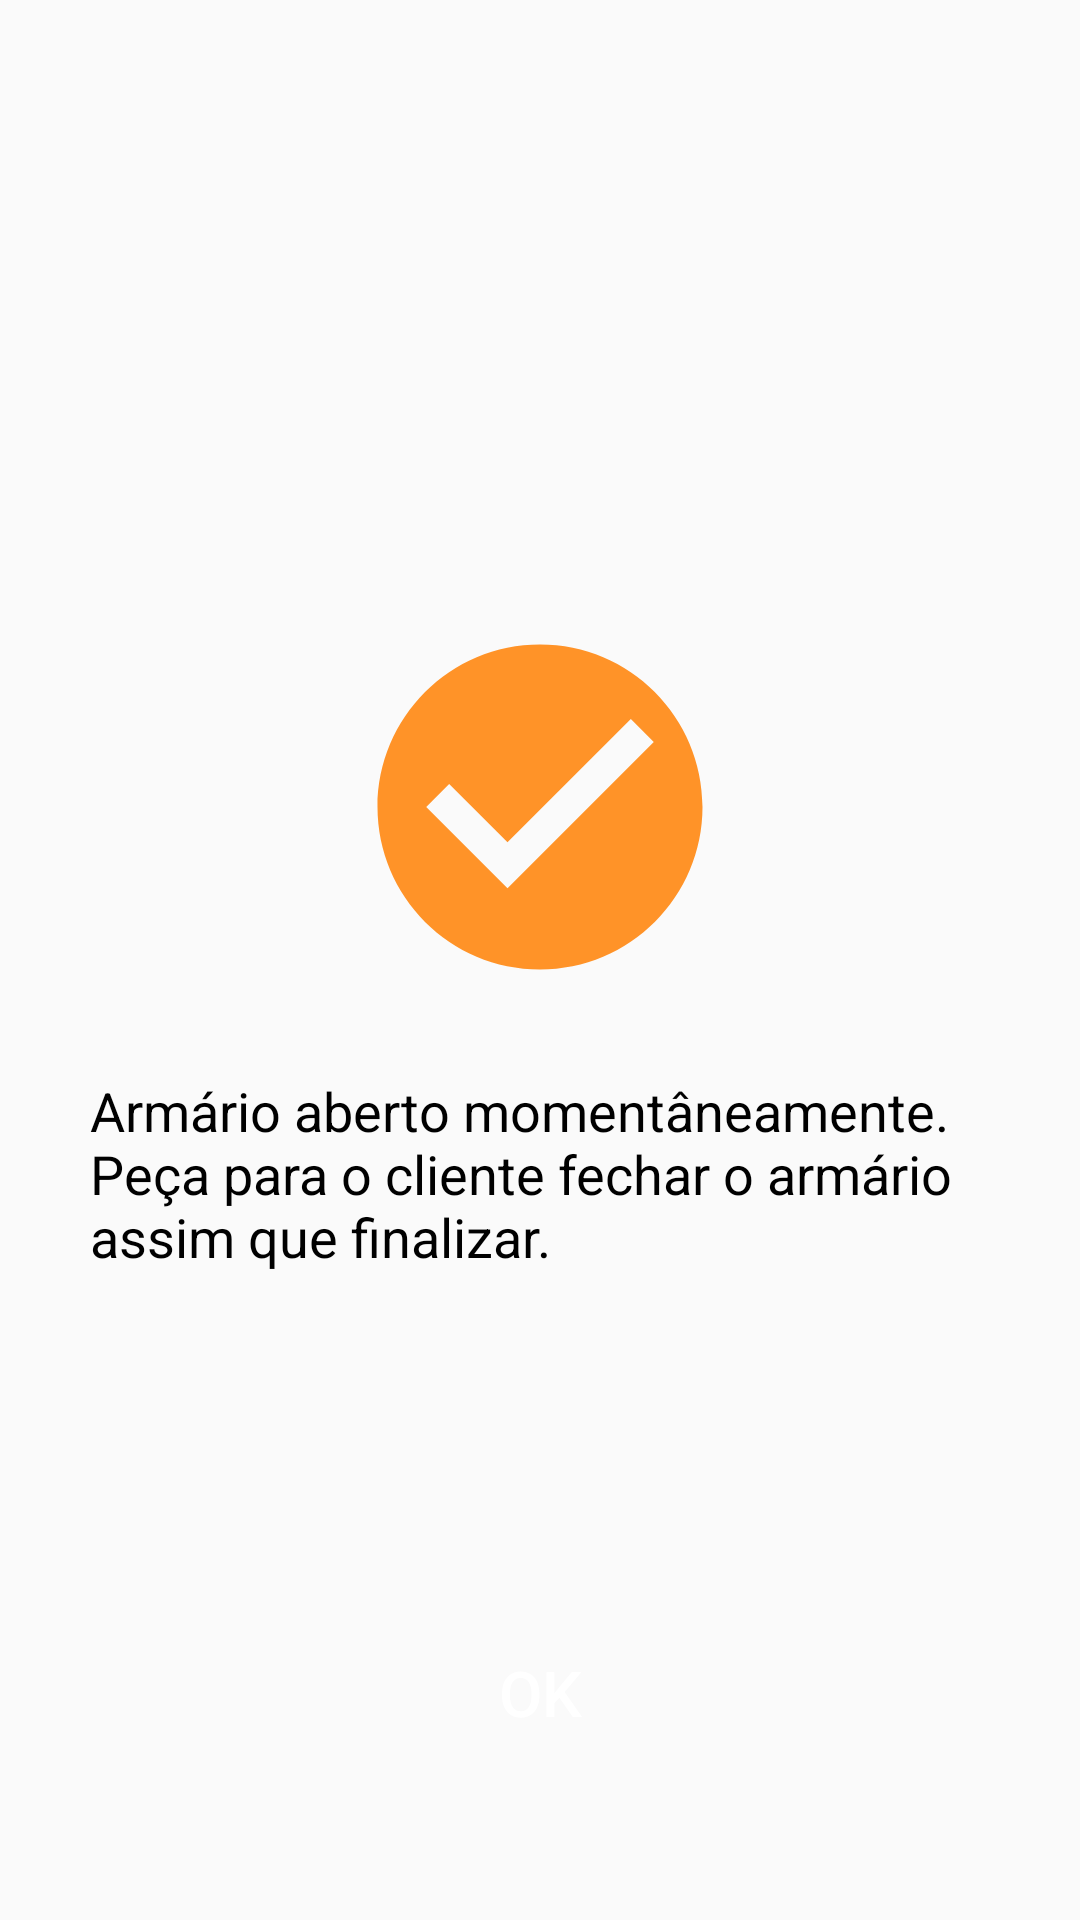

Locate icon controls on the screen. Image size 1080×1920, boxes as (x1, y1, x2, y2).
sucess: (377, 644, 703, 970)
